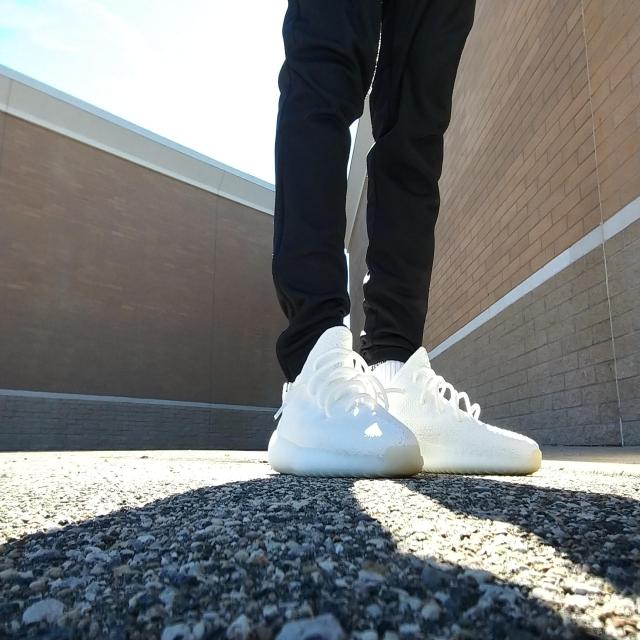shoe: (264, 324, 424, 476), (372, 348, 541, 476)
